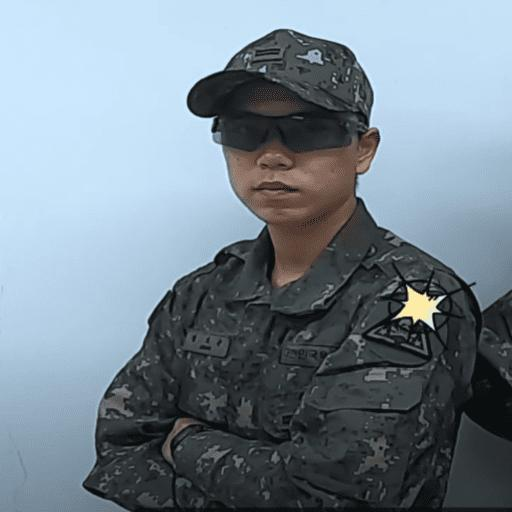korea army: (82, 27, 484, 510)
